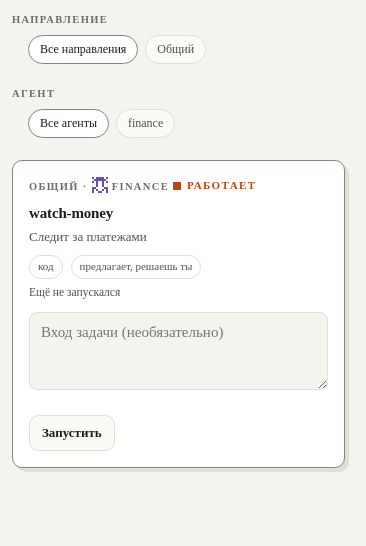
it: витрина навыков › отказ Core объясняется словами, а введённый текст остаётся в поле
This screenshot has width=366, height=546.
In the text box with placeholder "Вход задачи (необязательно)": x=179, y=351 [29, 312, 328, 390], type "Сверить оплаты за август"
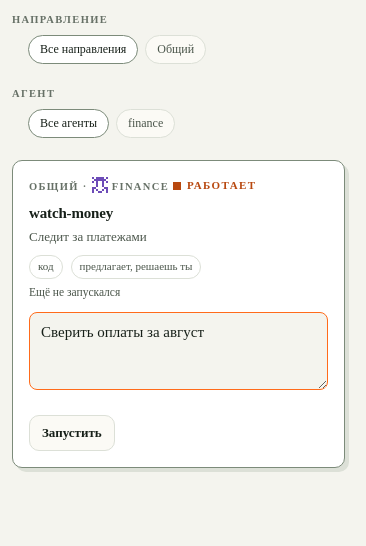
Click the button "Запустить": x=72, y=433 [29, 415, 115, 451]
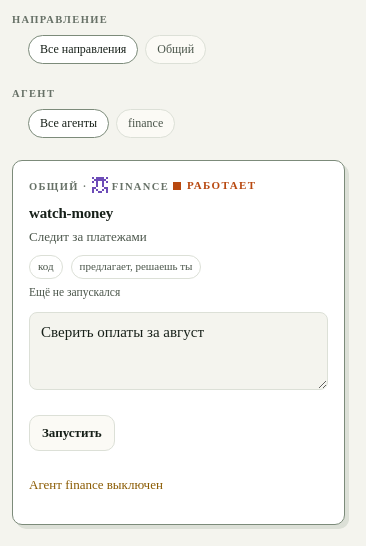
expect the text "finance" is shown: met, box [116, 109, 175, 138]
expect the text "Агент finance выключен" is shown: met, box [29, 477, 163, 492]
